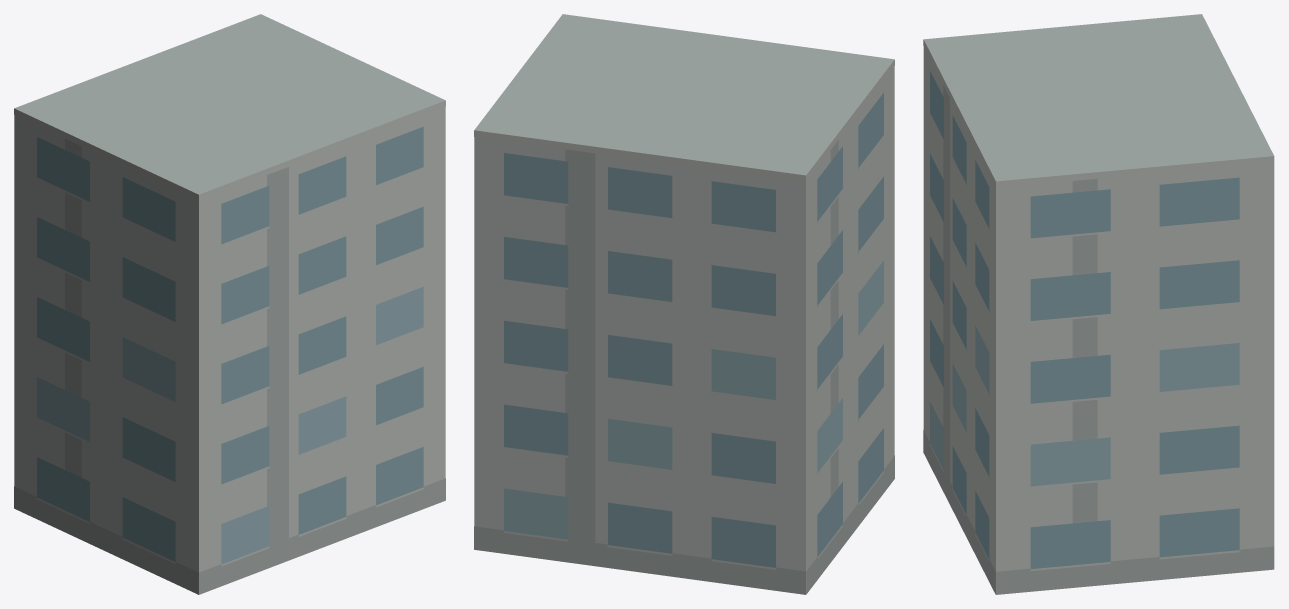
File: residential-be60996c-8552-4e42-9313-cbec52fcd309.glb
3 renders of one model, left to right at view 1: azimuth 30°, elevation 25°; view 2: azimuth 150°, elevation 25°; view 3: azimuth 270°, elevation 25°, orthographic. The views are drawn at different scales.
Parts seen in each view (by area): view 1: residential-be60996c-8552-4e42-9313-cbec52fcd309.tmp; view 2: residential-be60996c-8552-4e42-9313-cbec52fcd309.tmp; view 3: residential-be60996c-8552-4e42-9313-cbec52fcd309.tmp.
Part boxes in pixels (x1,y1,x2,y2): residential-be60996c-8552-4e42-9313-cbec52fcd309.tmp: (14,14,445,594); residential-be60996c-8552-4e42-9313-cbec52fcd309.tmp: (474,14,894,594); residential-be60996c-8552-4e42-9313-cbec52fcd309.tmp: (923,14,1274,594).
Bounding box in the file's own units: 13.25 × 15.25 × 11.73.
